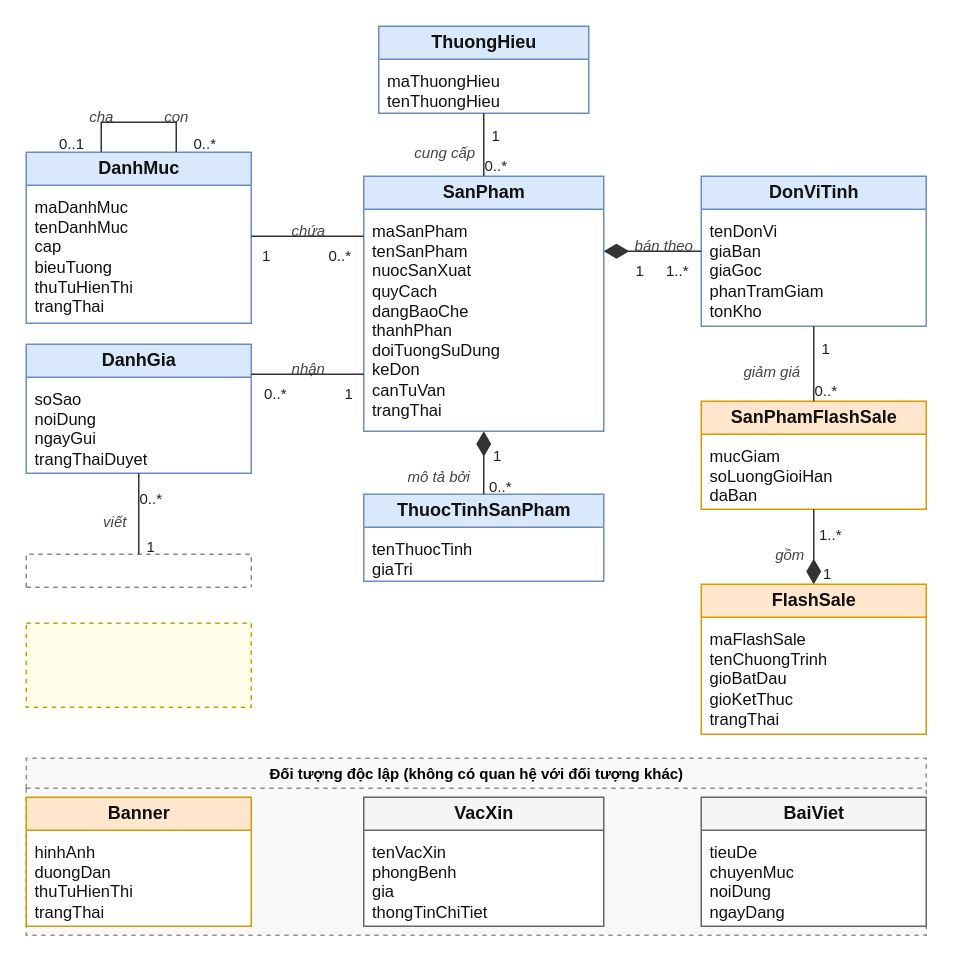
Some shapes in this 953 by 962 pixel diagram are drawn without their labels. Each missing label, with the centre of its shape:
"Ghi chú: DanhMuc.cap 1 = Nhóm sản phẩm 2 = Danh mục 3 = Danh mục con" goes at [138,664].
"KhachHang" goes at [138,570].
